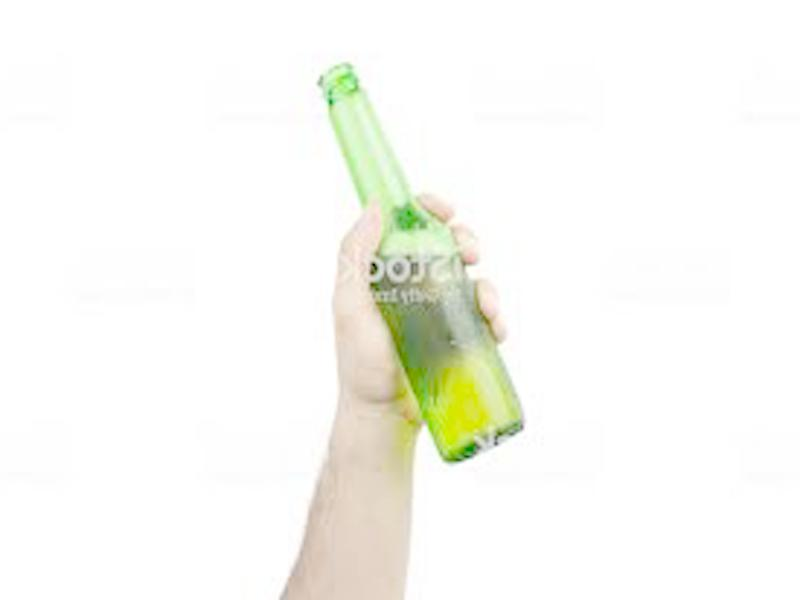Beer: (316, 59, 526, 459)
